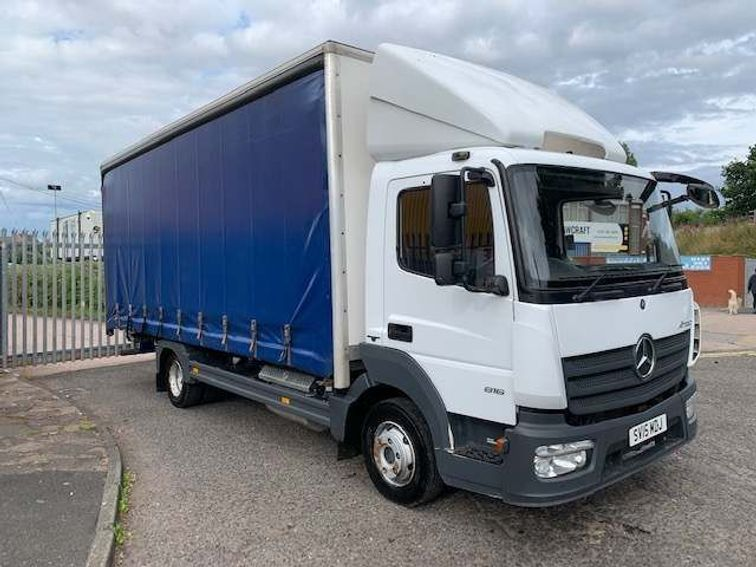Semi: (98, 38, 700, 509)
